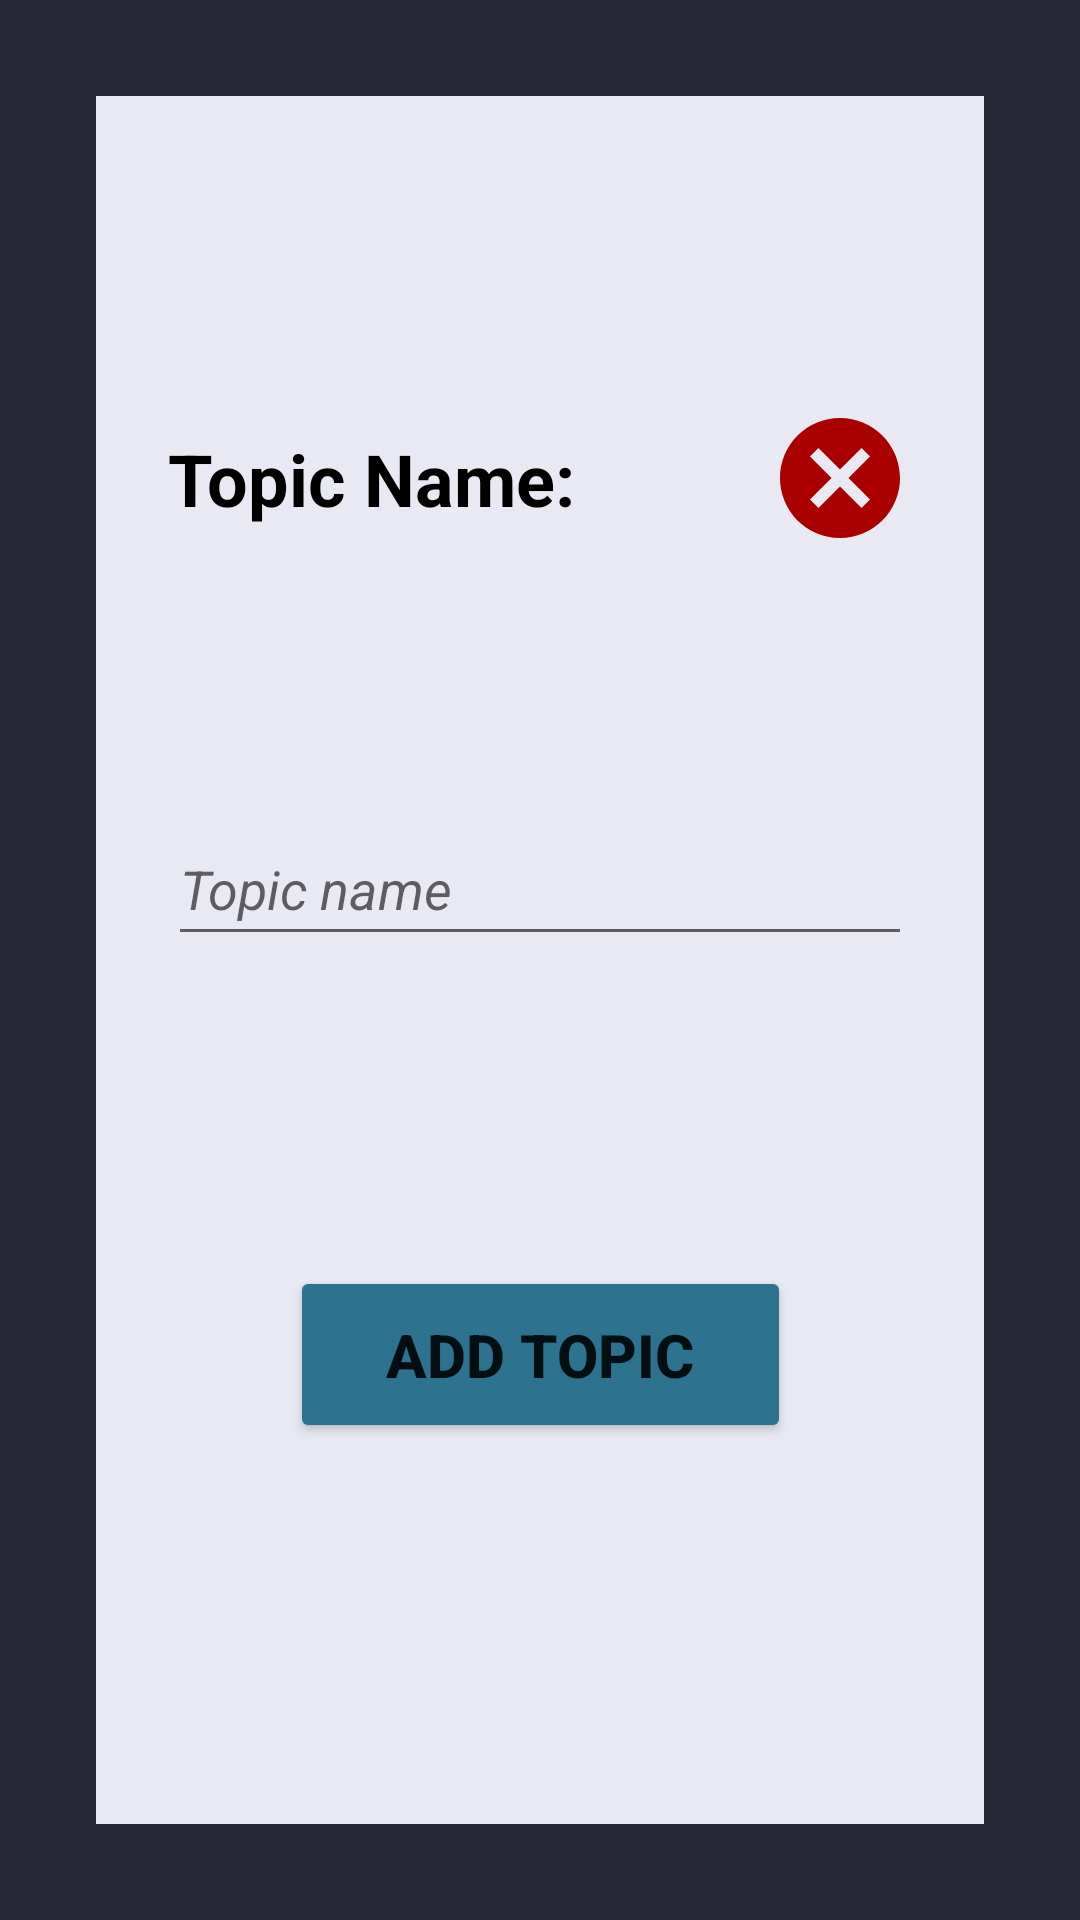

Screen size 1080×1920. Icon name, then its box in pixels as (x1, y1, x2, y2):
cancel: (780, 418, 900, 538)
